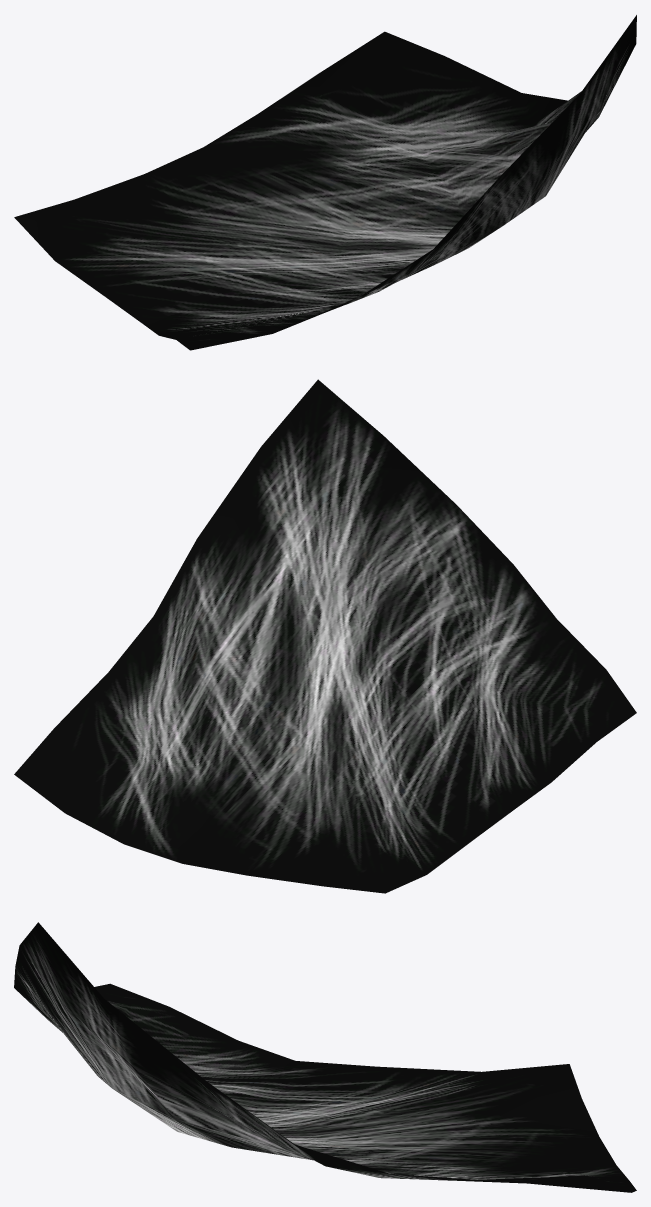
The model's file is SWORDLIGHT20_PS-AREA01_CORNERWEB08.fbx.
3 views of the same model, one above another, from view 1: azimuth 30°, elevation 25°; view 2: azimuth 150°, elevation 25°; view 3: azimuth 270°, elevation 25° (orthographic). The views are drawn at different scales.
Parts seen in each view (by area): view 1: SWORDLIGHT20_PS-AREA01_CORNERWEB08; view 2: SWORDLIGHT20_PS-AREA01_CORNERWEB08; view 3: SWORDLIGHT20_PS-AREA01_CORNERWEB08.
Part boxes in pixels (x1,y1,x2,y2): SWORDLIGHT20_PS-AREA01_CORNERWEB08: [14, 15, 636, 350]; SWORDLIGHT20_PS-AREA01_CORNERWEB08: [14, 379, 636, 893]; SWORDLIGHT20_PS-AREA01_CORNERWEB08: [14, 922, 636, 1192].
Bounding box in the file's own units: 65674 × 43171 × 76484.
Materials: 1 (1 with a texture image).
